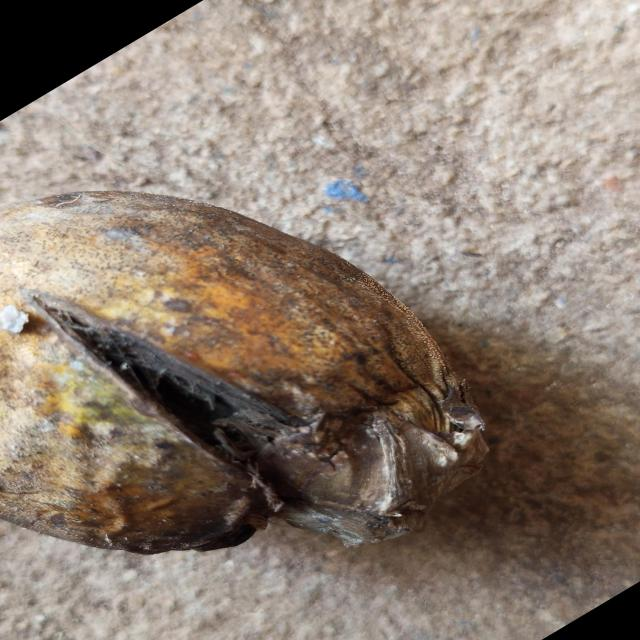damaged: (0, 189, 490, 558)
